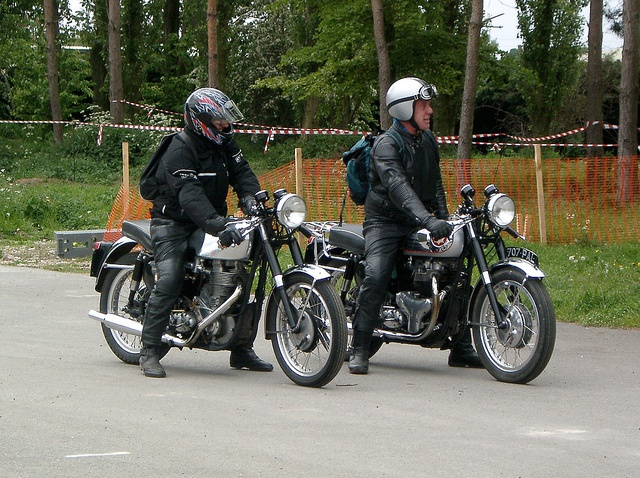non-vehicle: (85, 185, 348, 383), (302, 180, 548, 379)
